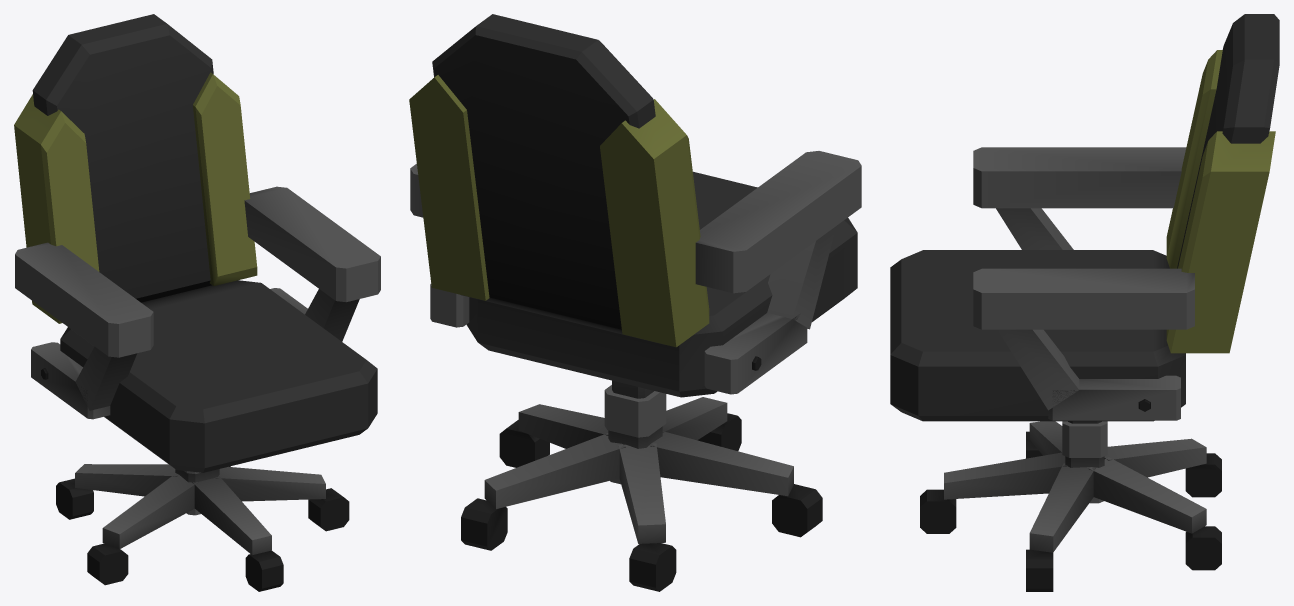
Rendered from office-chair.glb.
3 views of the same model, side by side, from view 1: azimuth 30°, elevation 25°; view 2: azimuth 150°, elevation 25°; view 3: azimuth 270°, elevation 25° (orthographic). The views are drawn at different scales.
Parts seen in each view (by area): view 1: office-chair; view 2: office-chair; view 3: office-chair.
Boxes of the visible parts, <box> form: office-chair: <box>14,14,380,591</box>; office-chair: <box>409,14,861,591</box>; office-chair: <box>890,14,1279,591</box>.
Size of the model in its own units: 0.61 by 0.96 by 0.6899.
Materials: 1 (1 with a texture image).
